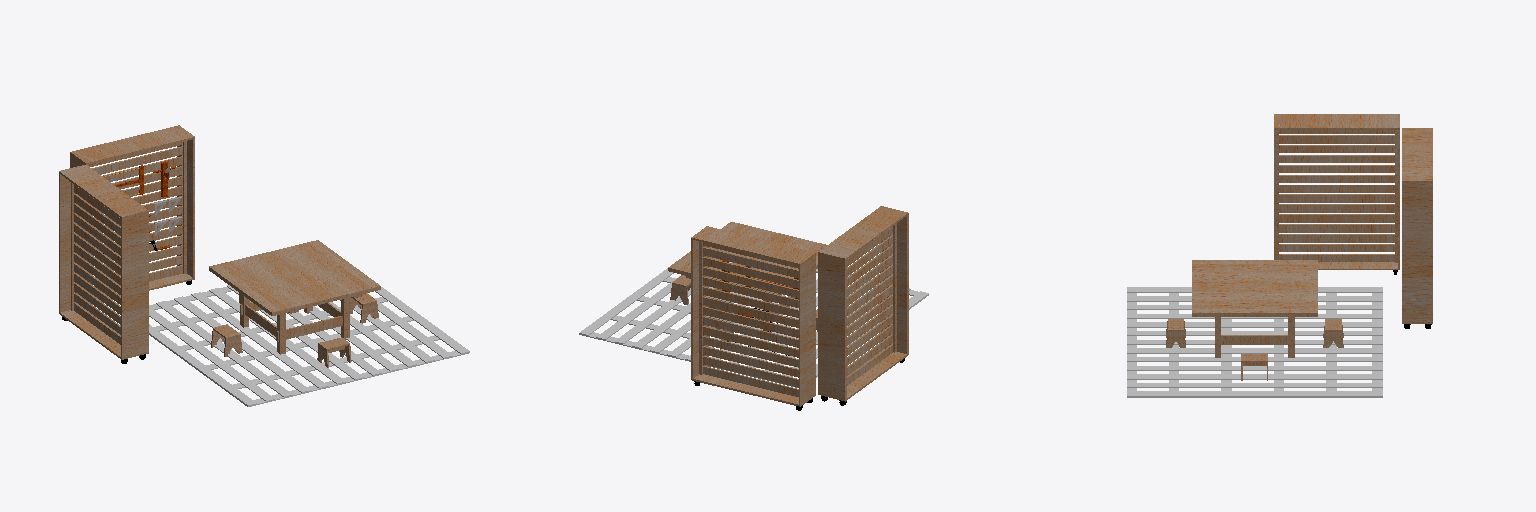
3 renders of one model, left to right at view 1: azimuth 30°, elevation 25°; view 2: azimuth 150°, elevation 25°; view 3: azimuth 270°, elevation 25°, orthographic.
Parts seen in each view (by area): view 1: Cube.009, Cube.021, Cube.036, Cube.079, Cube.037, Cube.038, Cube.008, Cube.078, Cube.005, Cube.035, Cube.004, Cube.106 (+4 smaller); view 2: Cube.038, Cube.009, Cube.080, Cube.079, Cube.037, Cube.036, Cube.021, Cube.078, Cube.077, Cube.035, Cube.004, Cube.098 (+13 smaller); view 3: Cube.009, Cube.021, Cube.078, Cube.037, Cube.079, Cube.004, Cube.008, Cube.082, Cube.083, Cube.084, Cube.085, Cube.086 (+11 smaller).
Part boxes in pixels (bbox=[...]): Cube.009: bbox=[149, 285, 452, 401]; Cube.021: bbox=[209, 240, 380, 313]; Cube.036: bbox=[121, 213, 148, 357]; Cube.079: bbox=[70, 125, 194, 164]; Cube.037: bbox=[59, 165, 148, 218]; Cube.038: bbox=[59, 174, 86, 312]; Cube.008: bbox=[154, 297, 439, 388]; Cube.078: bbox=[177, 139, 194, 277]; Cube.005: bbox=[149, 324, 256, 405]; Cube.035: bbox=[59, 307, 148, 359]; Cube.004: bbox=[375, 287, 469, 353]; Cube.106: bbox=[92, 146, 182, 174]; Cube.038: bbox=[818, 254, 846, 399]; Cube.009: bbox=[596, 269, 910, 376]; Cube.080: bbox=[799, 255, 815, 404]; Cube.079: bbox=[691, 226, 815, 265]; Cube.037: bbox=[818, 206, 908, 260]; Cube.036: bbox=[880, 215, 908, 353]; Cube.021: bbox=[668, 222, 826, 294]; Cube.078: bbox=[691, 239, 708, 378]; Cube.077: bbox=[691, 374, 815, 406]; Cube.035: bbox=[818, 349, 908, 401]; Cube.004: bbox=[579, 268, 673, 335]; Cube.098: bbox=[703, 326, 798, 357]; Cube.009: bbox=[1127, 296, 1382, 387]; Cube.021: bbox=[1192, 260, 1317, 314]; Cube.078: bbox=[1402, 183, 1432, 321]; Cube.037: bbox=[1274, 114, 1399, 129]; Cube.079: bbox=[1402, 128, 1432, 182]; Cube.004: bbox=[1127, 391, 1382, 396]; Cube.008: bbox=[1169, 293, 1336, 390]; Cube.082: bbox=[1279, 234, 1394, 242]; Cube.083: bbox=[1279, 224, 1394, 232]; Cube.084: bbox=[1279, 214, 1394, 222]; Cube.085: bbox=[1279, 204, 1394, 212]; Cube.086: bbox=[1279, 194, 1394, 202].
Size of the model in its own units: 3.02 by 1.57 by 2.92.
8 materials, 2 textured.